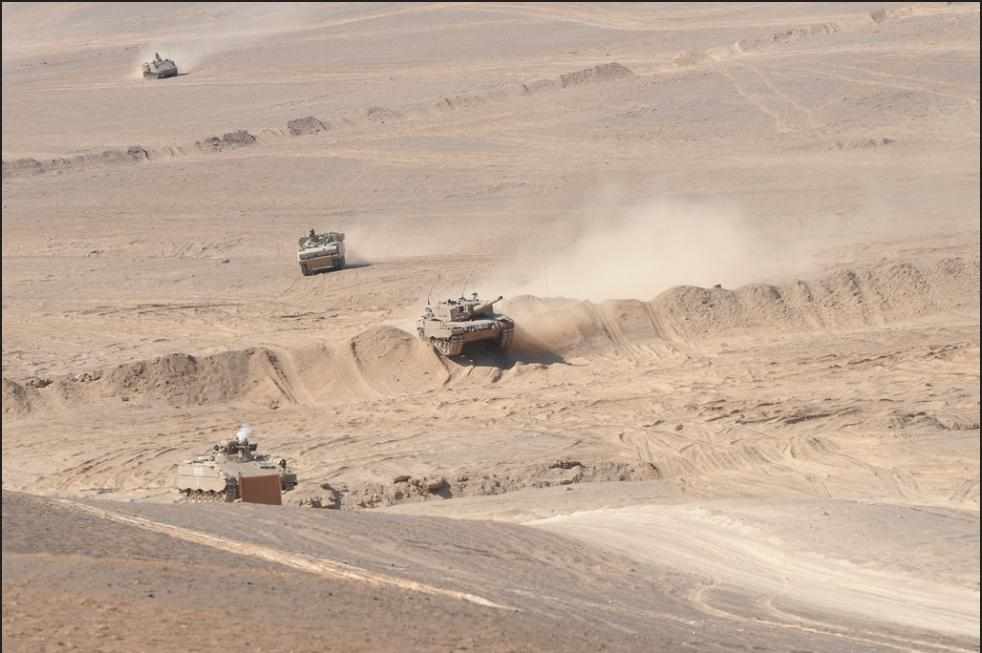armored_car: (160, 426, 296, 502), (298, 227, 349, 276), (136, 50, 180, 82)
tank: (418, 290, 516, 358)
